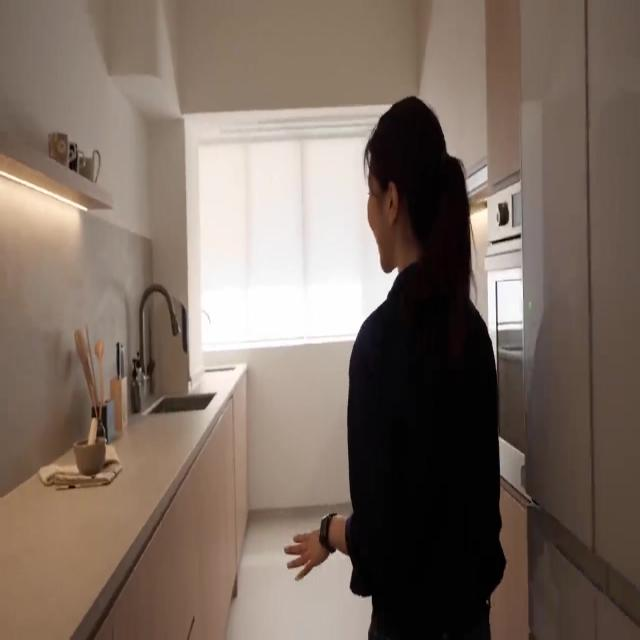obstacle: (0, 363, 246, 638)
person: (284, 94, 506, 639)
